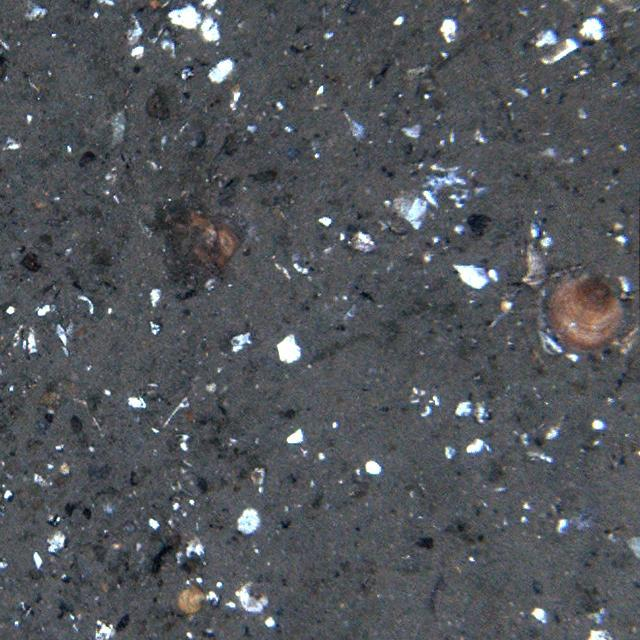scallop: (546, 267, 626, 350)
